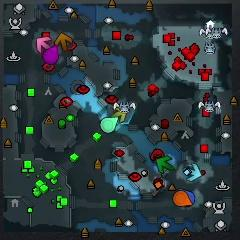p1: (181, 189, 195, 204)
p2: (99, 116, 119, 135)
p3: (42, 44, 60, 66)
p5: (173, 191, 192, 207)
x1: (35, 36, 52, 53)
x2: (108, 108, 128, 123)
x3: (183, 163, 202, 184)
x4: (156, 156, 175, 175)
x5: (55, 32, 73, 51)
